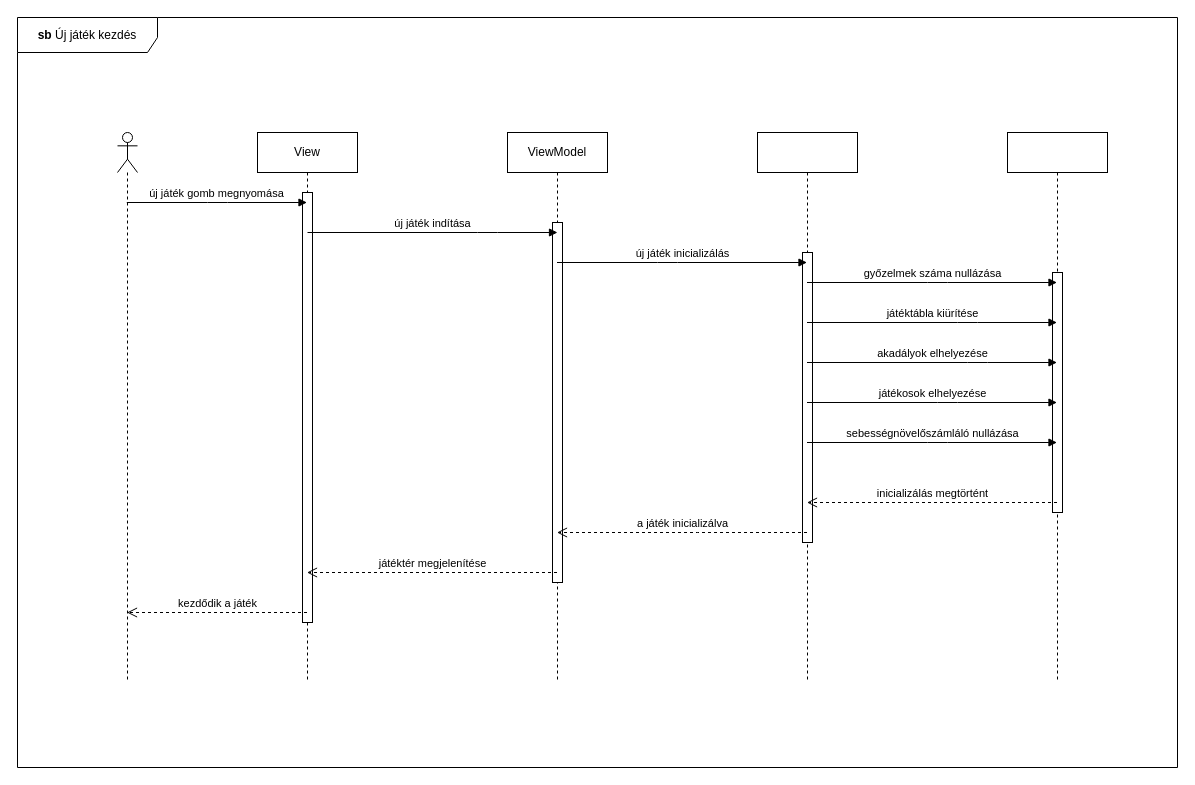
The diagram is 1195 pixels wide and 785 high, and some of its shapes have lost their labels. The shapes that lost their labels are listed below. From the top down, each one's box as (x1, y1, x2, y2) in pixels, then its label:
(756, 132, 858, 682): Business Logic
(1006, 132, 1108, 682): Repository
